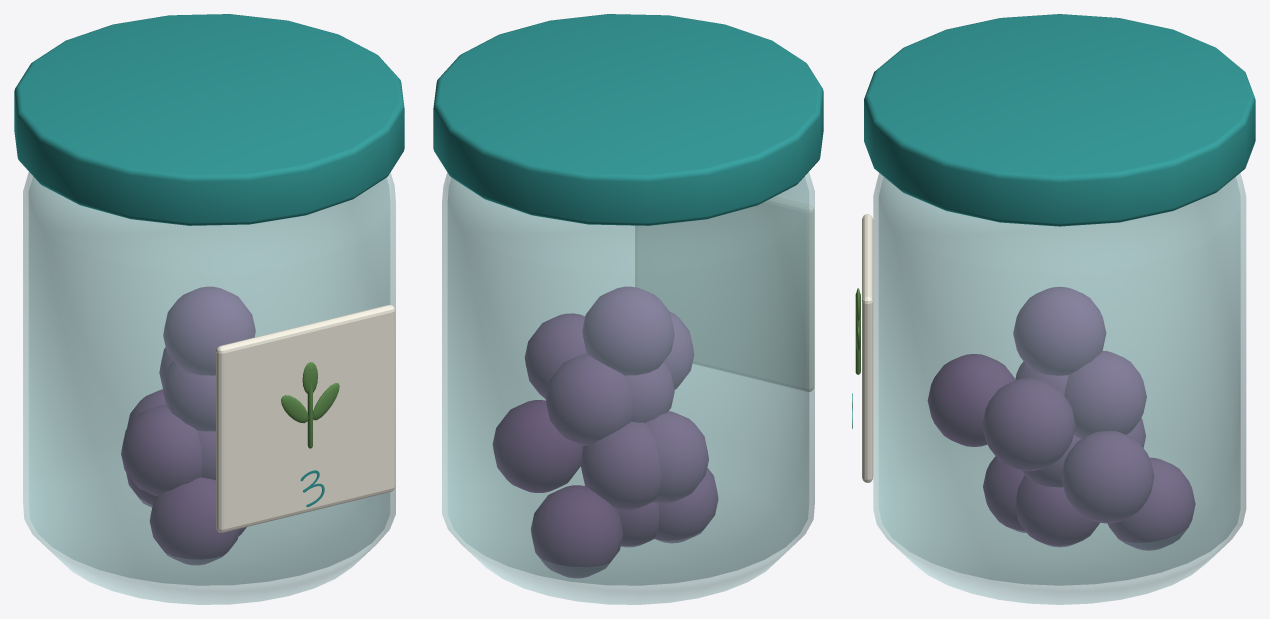
Rendered from harvest_jar_q3.glb.
3 renders of one model, left to right at view 1: azimuth 30°, elevation 25°; view 2: azimuth 150°, elevation 25°; view 3: azimuth 270°, elevation 25°, orthographic.
Parts seen in each view (by area): view 1: Glass_jar, Lid, Label, Contents_on_bottom.012, Contents_on_bottom.004, Contents_on_bottom.001, Contents_on_bottom.009, Contents_on_bottom.006, Contents_on_bottom.007; view 2: Glass_jar, Lid, Label, Contents_on_bottom.002, Contents_on_bottom.012, Contents_on_bottom.010, Contents_on_bottom.005, Contents_on_bottom.007, Contents_on_bottom.004, Contents_on_bottom.008, Contents_on_bottom.001, Contents_on_bottom.009 (+2 smaller); view 3: Glass_jar, Lid, Contents_on_bottom.008, Contents_on_bottom.005, Contents_on_bottom.012, Contents_on_bottom.010, Contents_on_bottom.011, Contents_on_bottom.002, Contents_on_bottom, Label, Contents_on_bottom.001, Contents_on_bottom.006 (+1 smaller).
Boxes of the visible parts, x1,y1,x2,y2 form: Glass_jar: (23, 172, 395, 604); Lid: (14, 14, 404, 225); Label: (216, 305, 395, 532); Contents_on_bottom.012: (163, 286, 255, 375); Contents_on_bottom.004: (121, 405, 202, 495); Contents_on_bottom.001: (149, 477, 239, 564); Contents_on_bottom.009: (163, 361, 215, 431); Contents_on_bottom.006: (197, 430, 215, 480); Contents_on_bottom.007: (127, 389, 165, 428); Glass_jar: (442, 172, 814, 604); Lid: (433, 14, 823, 225); Label: (635, 197, 814, 391); Contents_on_bottom.002: (531, 485, 623, 577); Contents_on_bottom.012: (582, 286, 674, 375); Contents_on_bottom.010: (545, 354, 633, 445); Contents_on_bottom.005: (492, 400, 583, 492); Contents_on_bottom.007: (580, 421, 660, 510); Contents_on_bottom.004: (645, 411, 708, 503); Contents_on_bottom.008: (524, 313, 586, 398); Contents_on_bottom.001: (655, 468, 718, 542); Contents_on_bottom.009: (625, 361, 674, 422); Glass_jar: (873, 173, 1246, 604); Lid: (864, 14, 1255, 226); Contents_on_bottom.008: (982, 378, 1075, 471); Contents_on_bottom.005: (1061, 431, 1154, 523); Contents_on_bottom.012: (1013, 286, 1106, 375); Contents_on_bottom.010: (1064, 351, 1146, 438); Contents_on_bottom.011: (927, 354, 1015, 446); Contents_on_bottom.002: (1108, 457, 1195, 550); Contents_on_bottom: (1015, 475, 1099, 546); Label: (862, 214, 873, 482); Contents_on_bottom.001: (983, 456, 1026, 532); Contents_on_bottom.006: (1022, 435, 1080, 487).
Size of the model in its own units: 0.21 by 0.27 by 0.2162.
